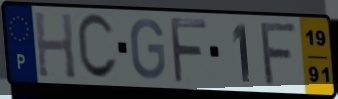1: (231, 23, 252, 84)
C: (74, 12, 120, 83)
F: (167, 15, 210, 86), (259, 21, 301, 88)
G: (129, 17, 168, 82)
H: (32, 9, 78, 81)
